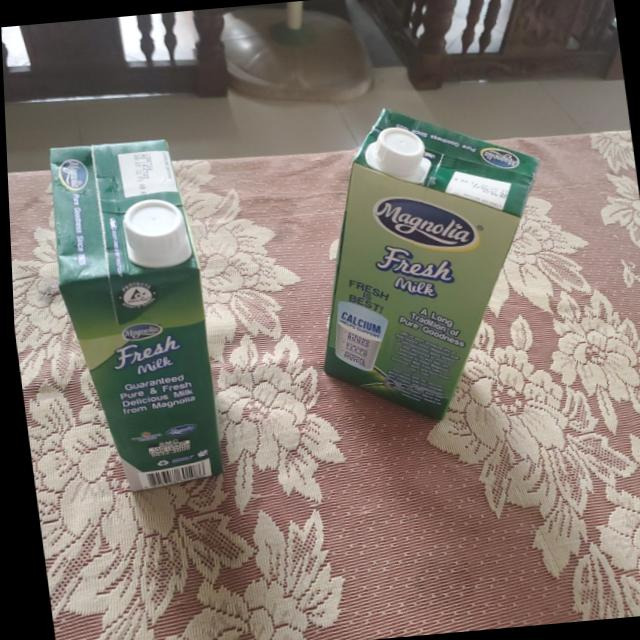milk: (287, 96, 567, 432), (40, 134, 225, 495)
